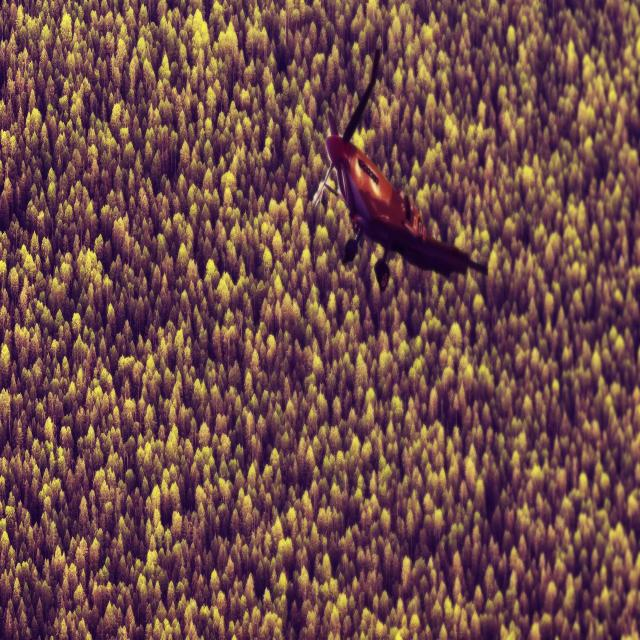airplane: (311, 45, 489, 293)
